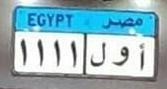1: (52, 39, 63, 69), (69, 38, 79, 68), (37, 36, 46, 67), (19, 36, 28, 67)
alif: (135, 40, 149, 72)
laam: (90, 39, 107, 68)
waw: (110, 46, 130, 71)
